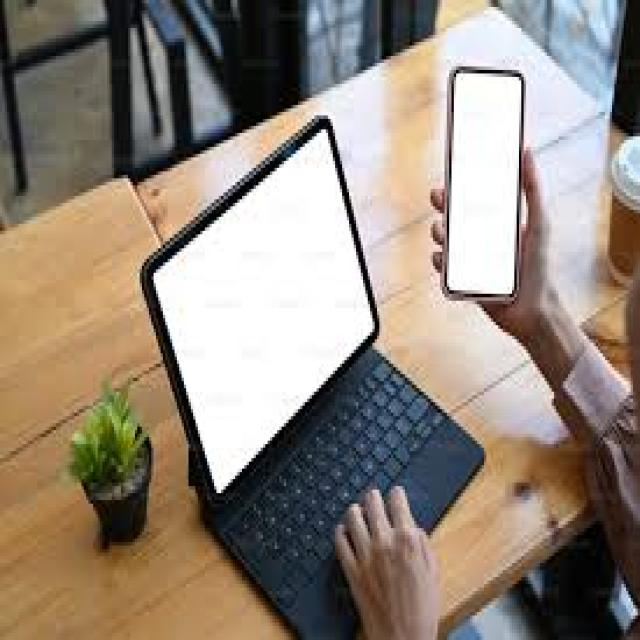laptop: (35, 76, 535, 640)
mobile: (424, 48, 551, 335)
